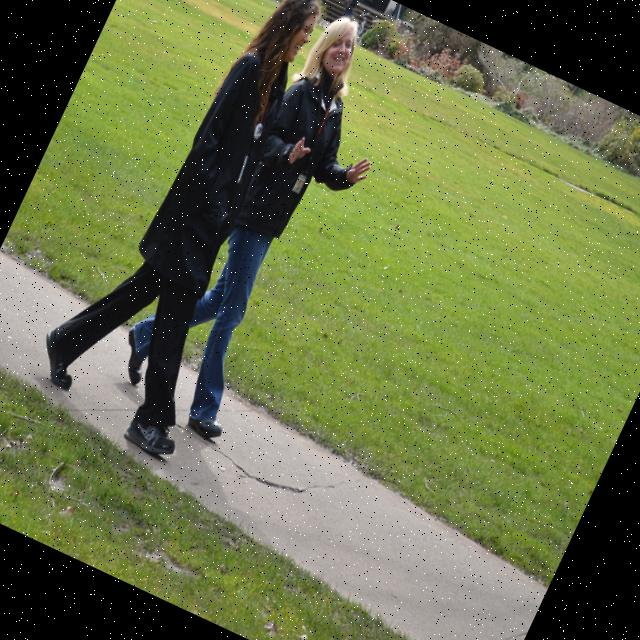Person: (20, 0, 372, 461), (105, 0, 423, 448)
